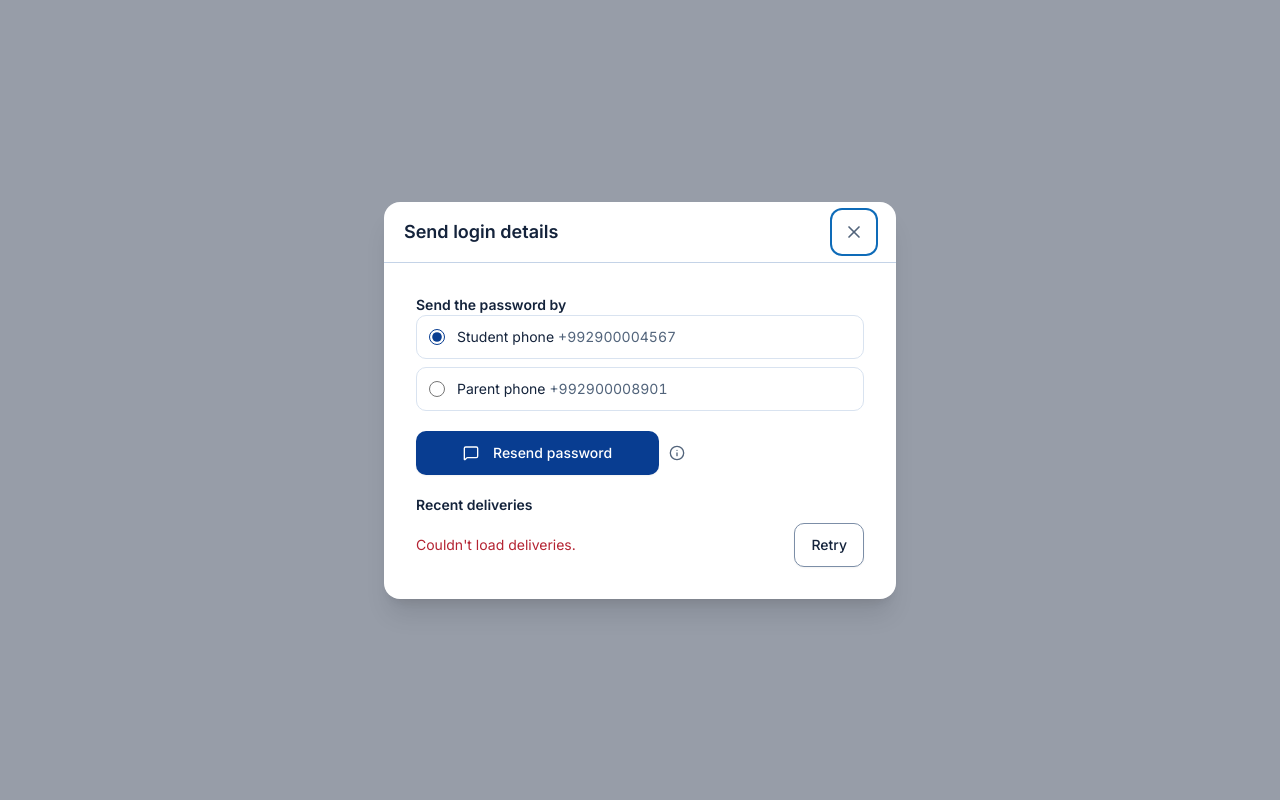
Test case: password SMS deliveries list › shows an error with a working retry
The image size is (1280, 800).
Expected: the text "Couldn't load deliveries." is shown, [416, 534, 576, 554]
Step 1. Click the button "Retry" → (829, 544), box [794, 522, 864, 566]
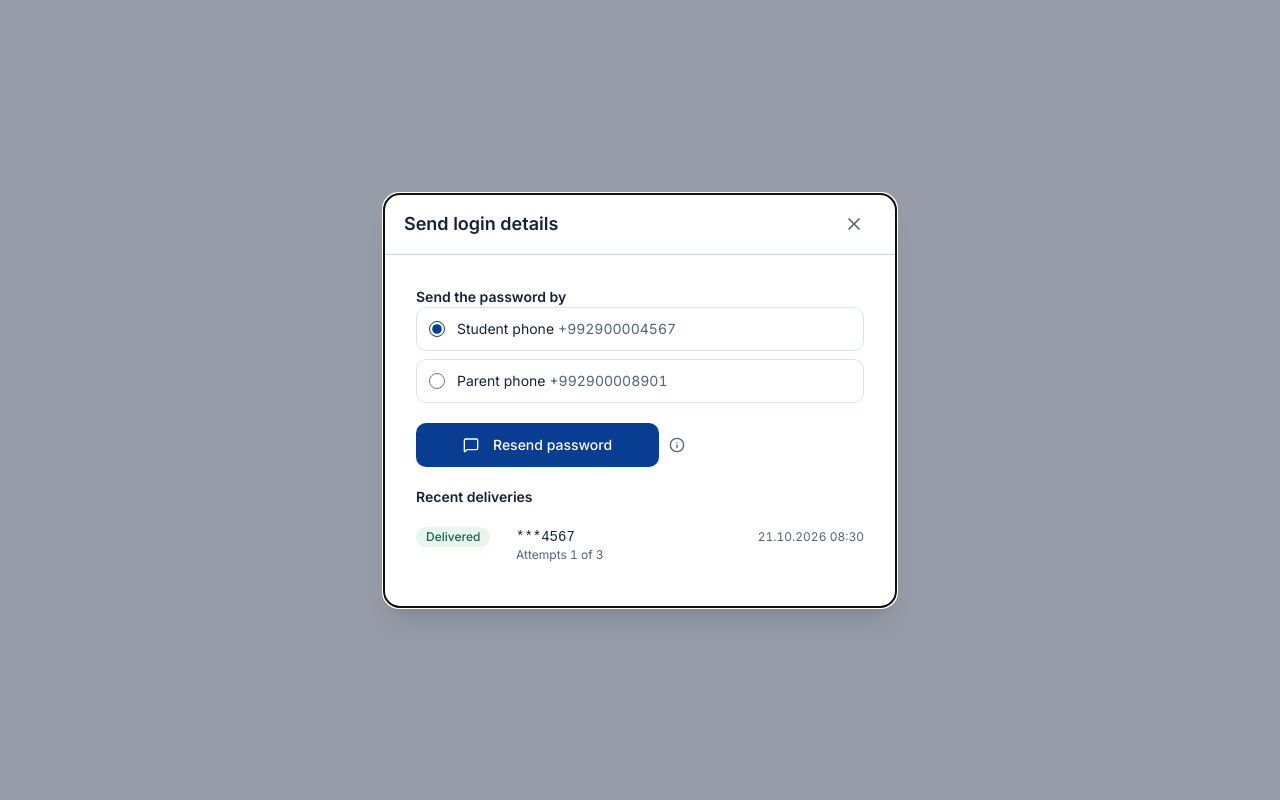
Expected: the text "***4567" is shown, [516, 526, 575, 546]
